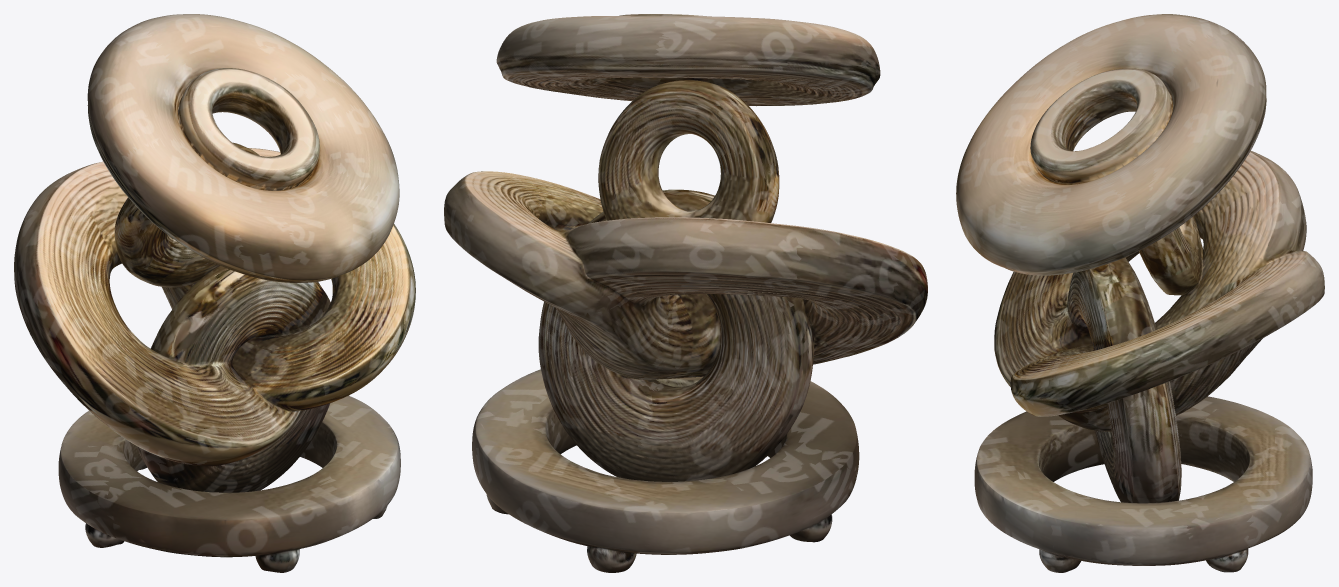
3 renders of one model, left to right at view 1: azimuth 30°, elevation 25°; view 2: azimuth 150°, elevation 25°; view 3: azimuth 270°, elevation 25°, orthographic. The views are drawn at different scales.
Parts seen in each view (by area): view 1: tripo_node_9a316802-8685-4c19-8bcf-066ec393fe75; view 2: tripo_node_9a316802-8685-4c19-8bcf-066ec393fe75; view 3: tripo_node_9a316802-8685-4c19-8bcf-066ec393fe75.
Boxes of the visible parts, box(x1,y1,x2,y2) form: tripo_node_9a316802-8685-4c19-8bcf-066ec393fe75: box(14, 14, 415, 572); tripo_node_9a316802-8685-4c19-8bcf-066ec393fe75: box(444, 14, 927, 572); tripo_node_9a316802-8685-4c19-8bcf-066ec393fe75: box(956, 14, 1324, 572).
Size of the model in its own units: 0.8208 by 0.9792 by 0.703.
Materials: 1 (1 with a texture image).
